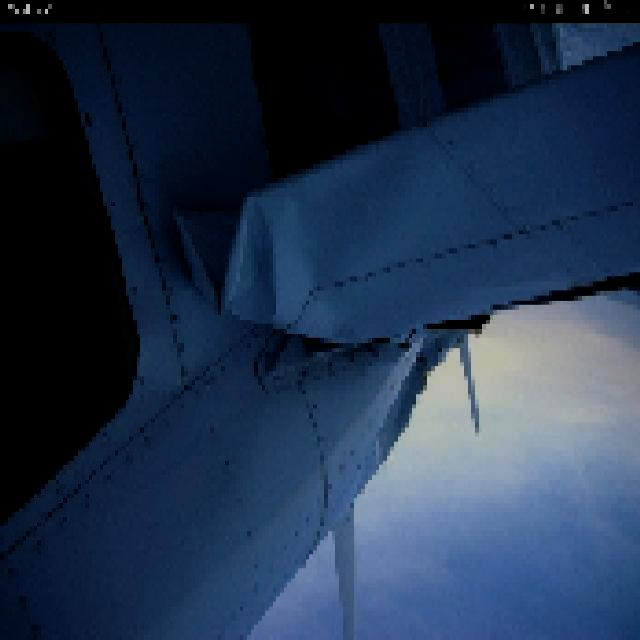dent: (169, 193, 282, 329)
